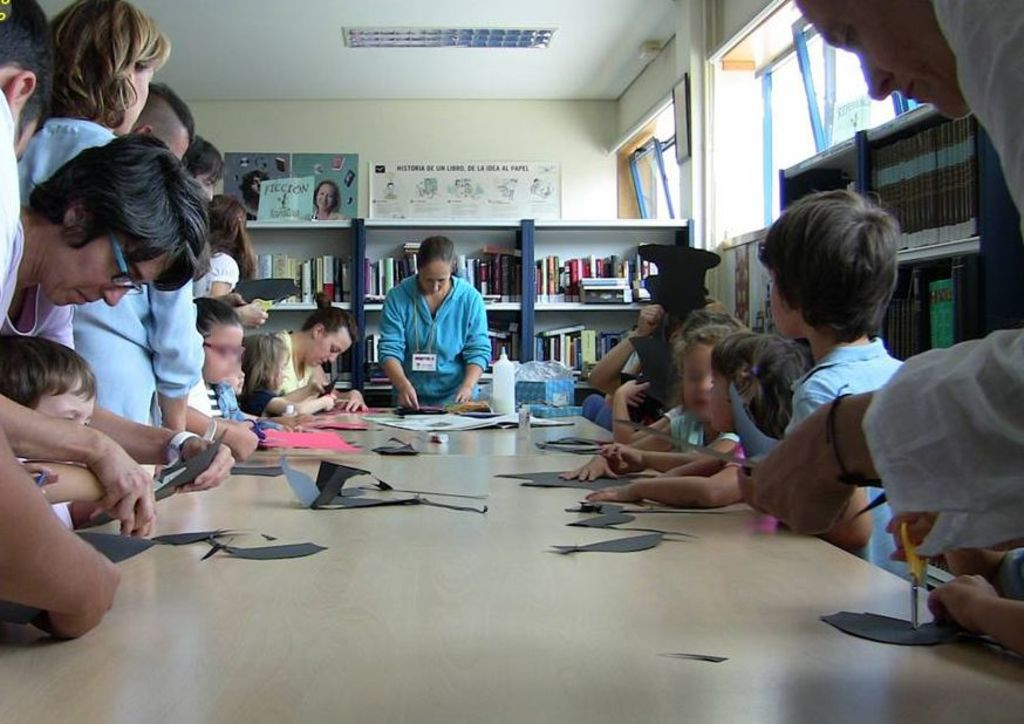Human_hand: (750, 407, 855, 536), (86, 434, 154, 532), (928, 575, 994, 633), (174, 441, 236, 495), (885, 516, 936, 562), (556, 454, 612, 482), (221, 423, 259, 464), (600, 441, 644, 472), (124, 506, 157, 539), (587, 487, 638, 504), (639, 305, 663, 339), (615, 379, 651, 401), (233, 302, 266, 325), (340, 390, 368, 411), (397, 384, 415, 413), (319, 393, 337, 413), (309, 376, 328, 391), (455, 387, 470, 401)
